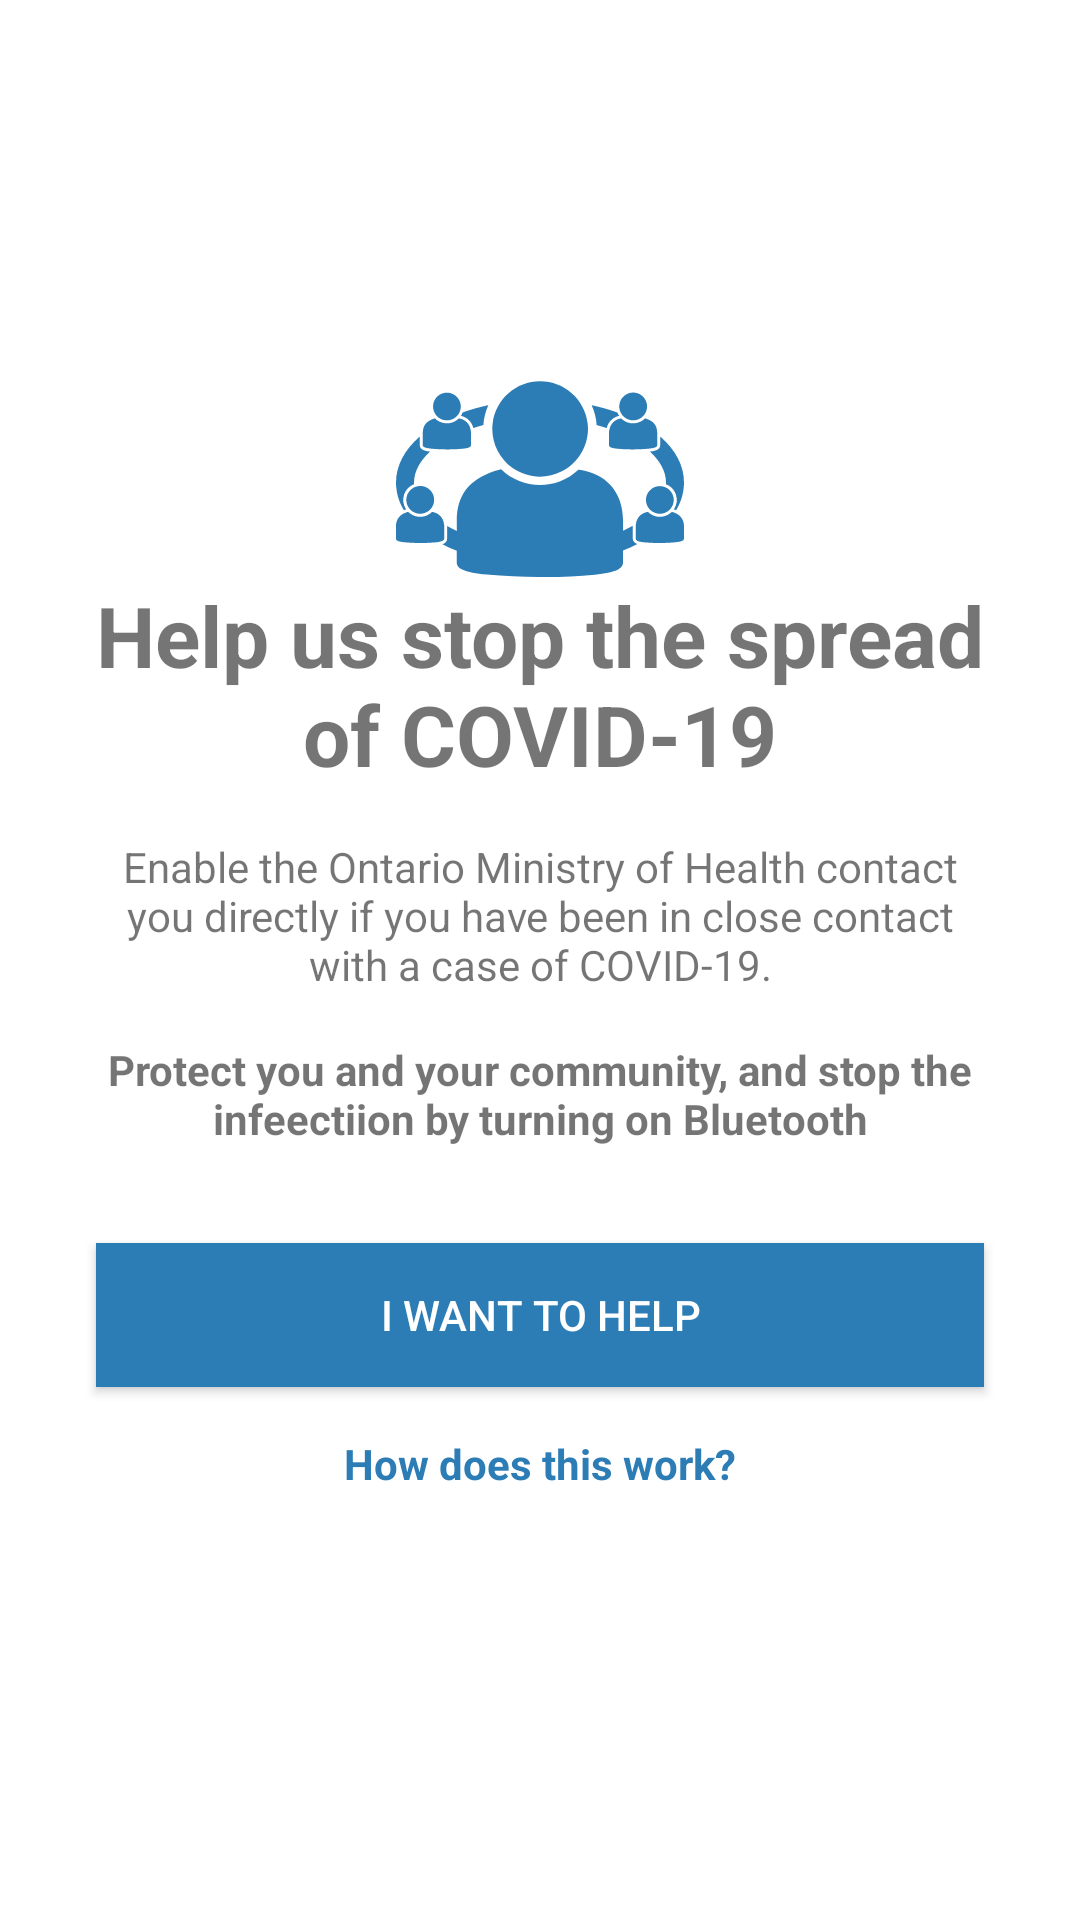

Screen size 1080px x 1920px. Icon name, then its center in pixels as point (x, y):
community: point (540, 479)
